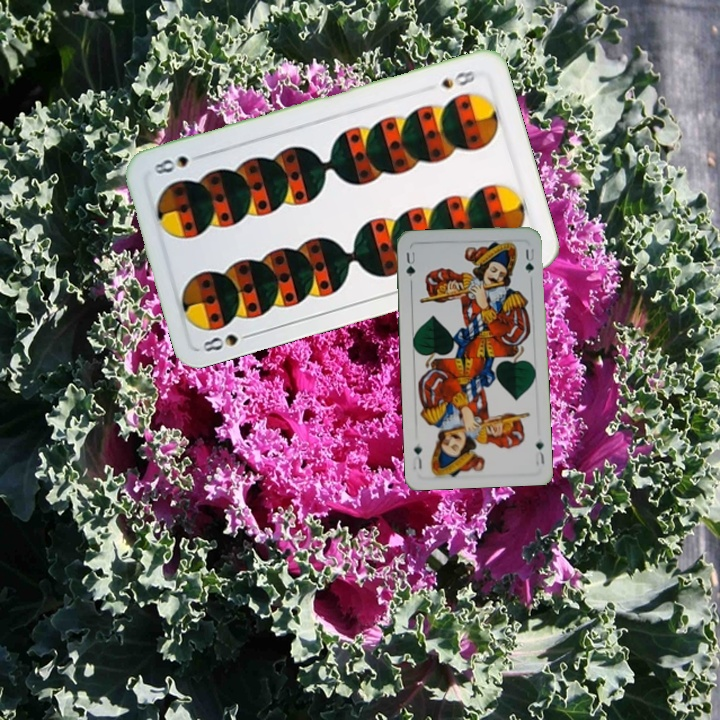GU: (402, 248, 418, 279), (531, 437, 547, 468)
S8: (198, 329, 257, 355), (437, 66, 480, 91)
